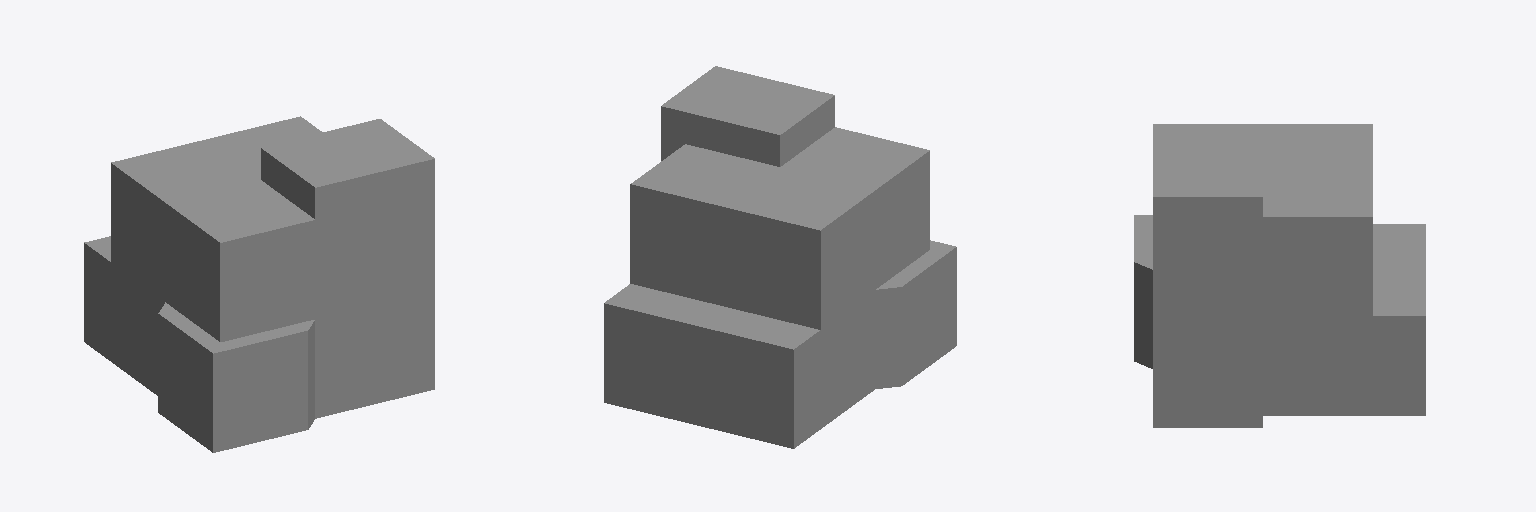
Rendered from rock.obj.
3 renders of one model, left to right at view 1: azimuth 30°, elevation 25°; view 2: azimuth 150°, elevation 25°; view 3: azimuth 270°, elevation 25°, orthographic.
Parts seen in each view (by area): view 1: Cube.001; view 2: Cube.001; view 3: Cube.001.
Boxes of the visible parts, box(x1,y1,x2,y2) form: Cube.001: box(84, 116, 434, 452); Cube.001: box(604, 66, 956, 448); Cube.001: box(1134, 124, 1425, 427).
Size of the model in its own units: 0.2436 by 0.2321 by 0.2664.